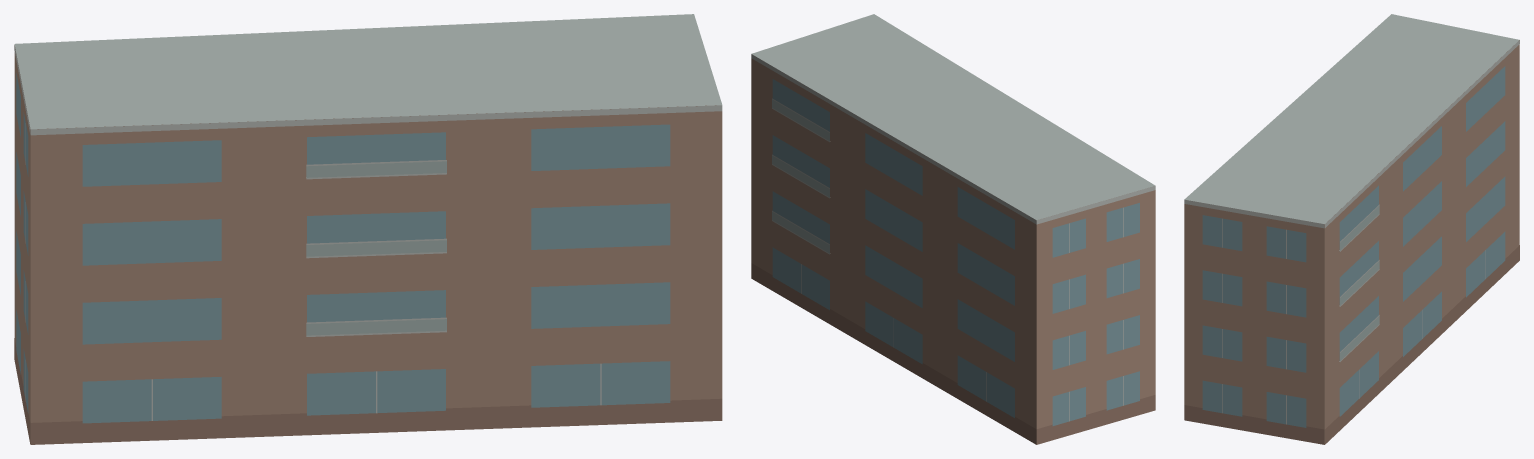
Rendered from survey-upis-32529001.glb.
3 renders of one model, left to right at view 1: azimuth 30°, elevation 25°; view 2: azimuth 150°, elevation 25°; view 3: azimuth 270°, elevation 25°, orthographic. The views are drawn at different scales.
Visible parts, largest first — view 1: survey-upis-32529001.tmp; view 2: survey-upis-32529001.tmp; view 3: survey-upis-32529001.tmp.
Part boxes in pixels (left/top/right/bottom): survey-upis-32529001.tmp: left=14, top=14, right=722, bottom=444; survey-upis-32529001.tmp: left=751, top=14, right=1155, bottom=444; survey-upis-32529001.tmp: left=1184, top=14, right=1519, bottom=444.
Size of the model in its own units: 26.16 by 12.8 by 17.65.
